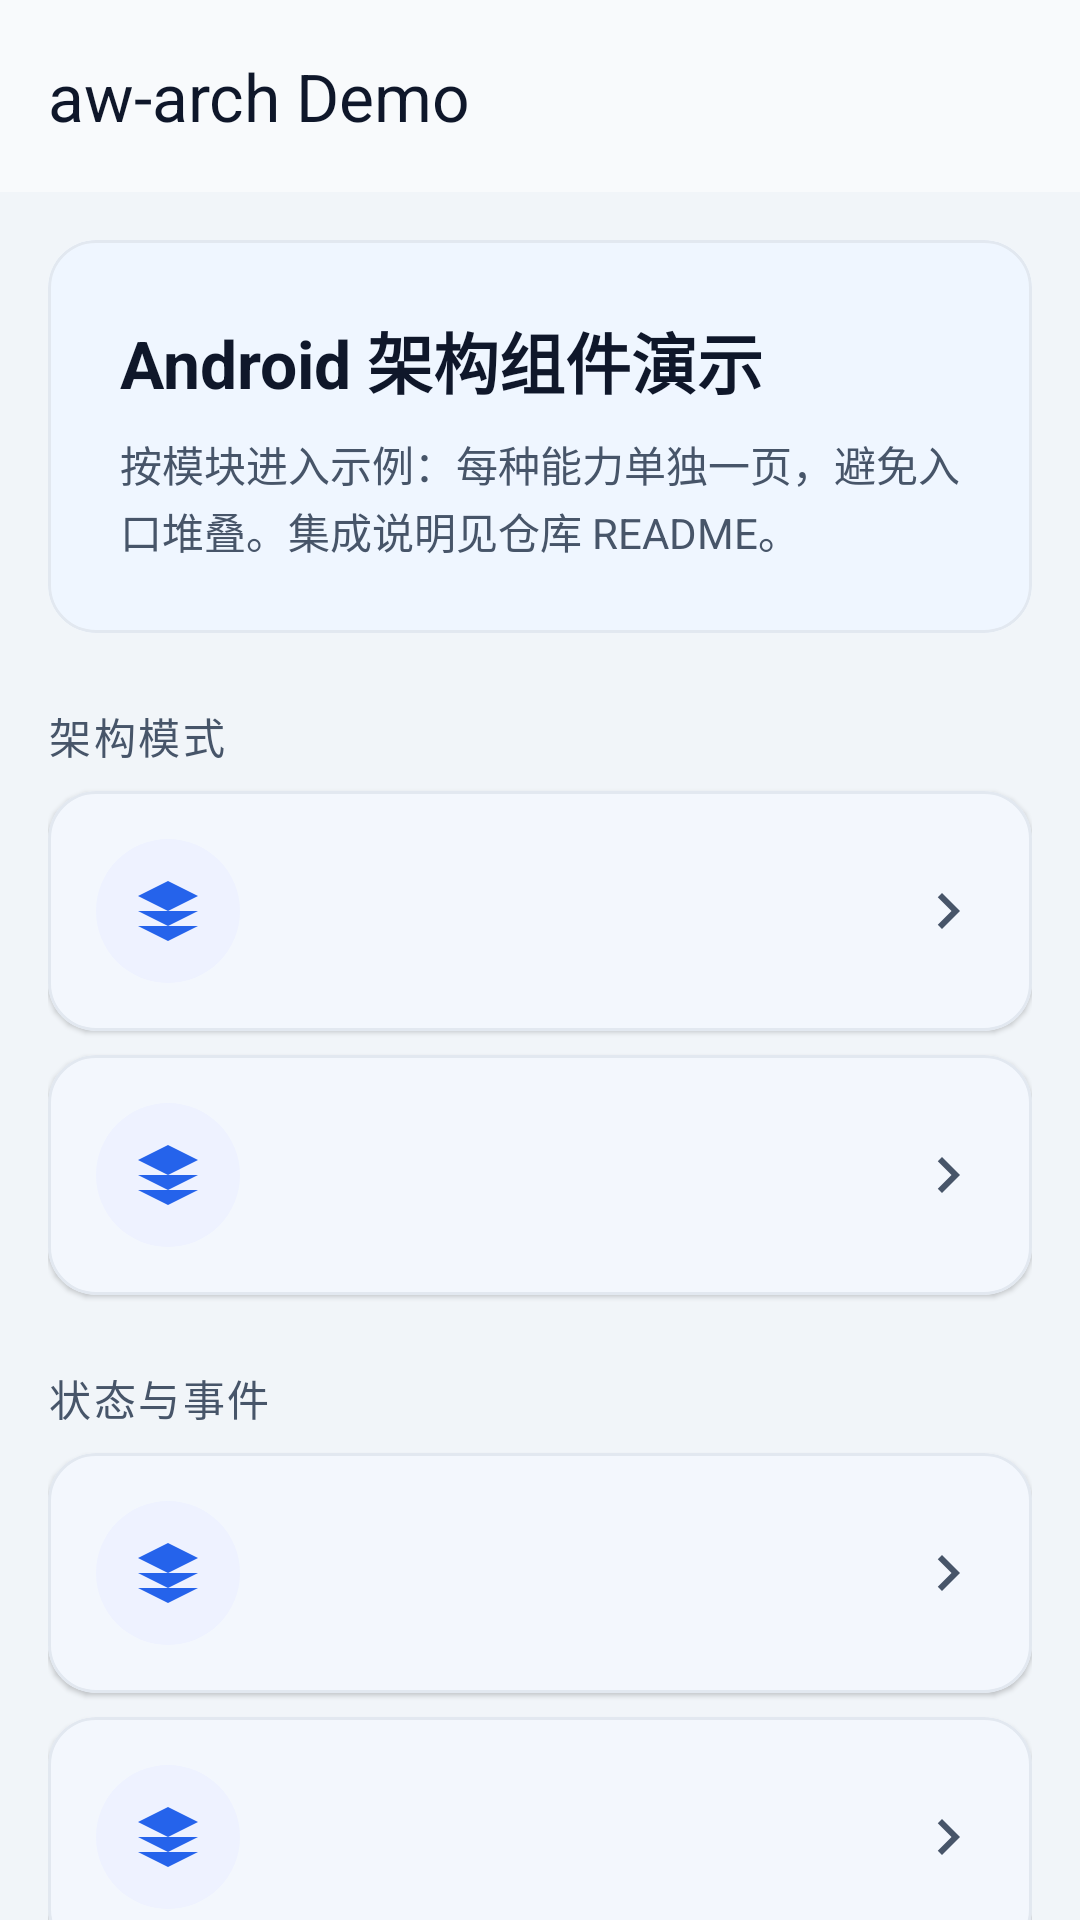

Screen size 1080 x 1920. Icon name, then its box in pixels as bbox=(x1, y1, x2, y2):
chevron right: bbox=(938, 893, 960, 929), bbox=(938, 1157, 960, 1193), bbox=(938, 1555, 960, 1591), bbox=(938, 1819, 960, 1855)
demo arch: bbox=(138, 881, 198, 941), bbox=(138, 1145, 198, 1205), bbox=(138, 1543, 198, 1603), bbox=(138, 1807, 198, 1867)
